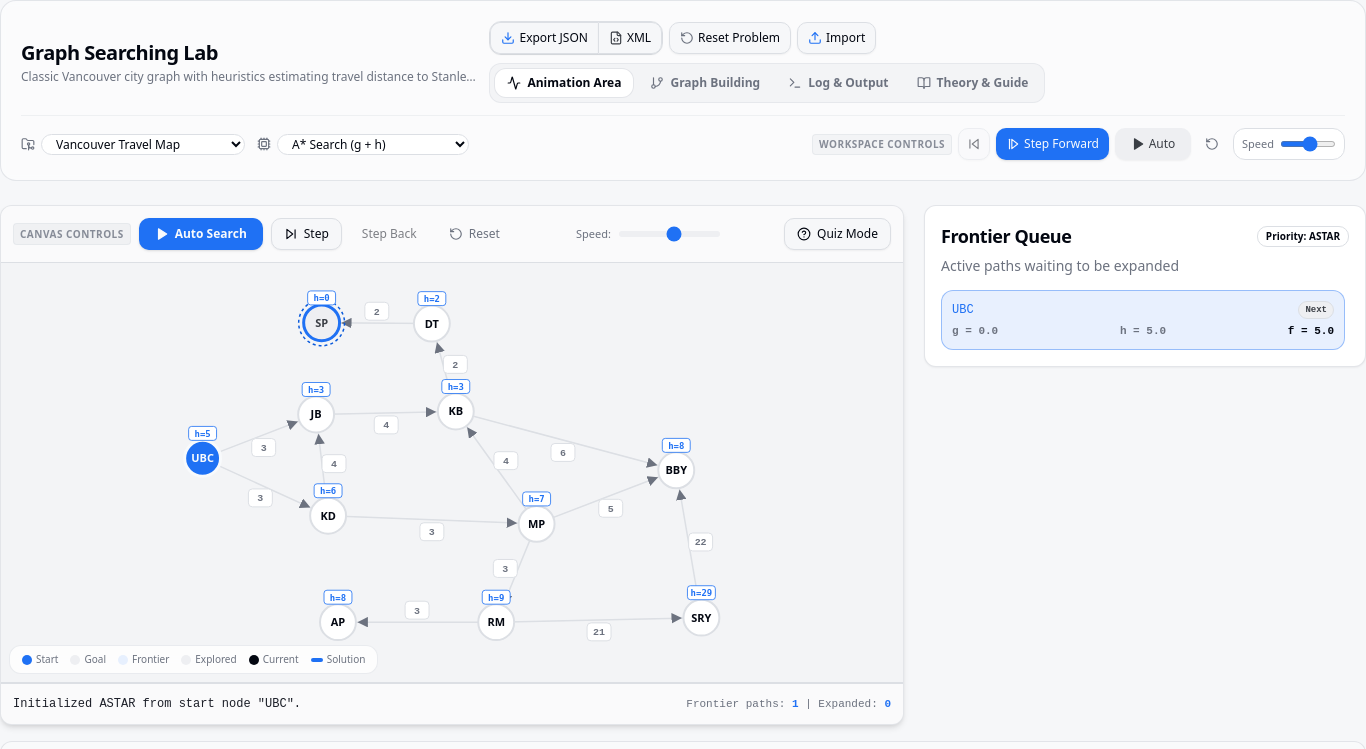
Test: AI Playground Consistent Workspace & Drag-and-Drop Graph Builder › 6. SearchTool seamlessly switches between Animation, Graph Building, Theory, and Log panes without Coding Area
Expected: the heading "Graph Searching Lab" is shown, 21,39 -> 218,66
Expected: the heading "Frontier Queue" is shown, 941,222 -> 1071,250
# Switch to Graph Building Area
Click the button "Graph Building" at (705, 83), box 638,69 -> 772,97
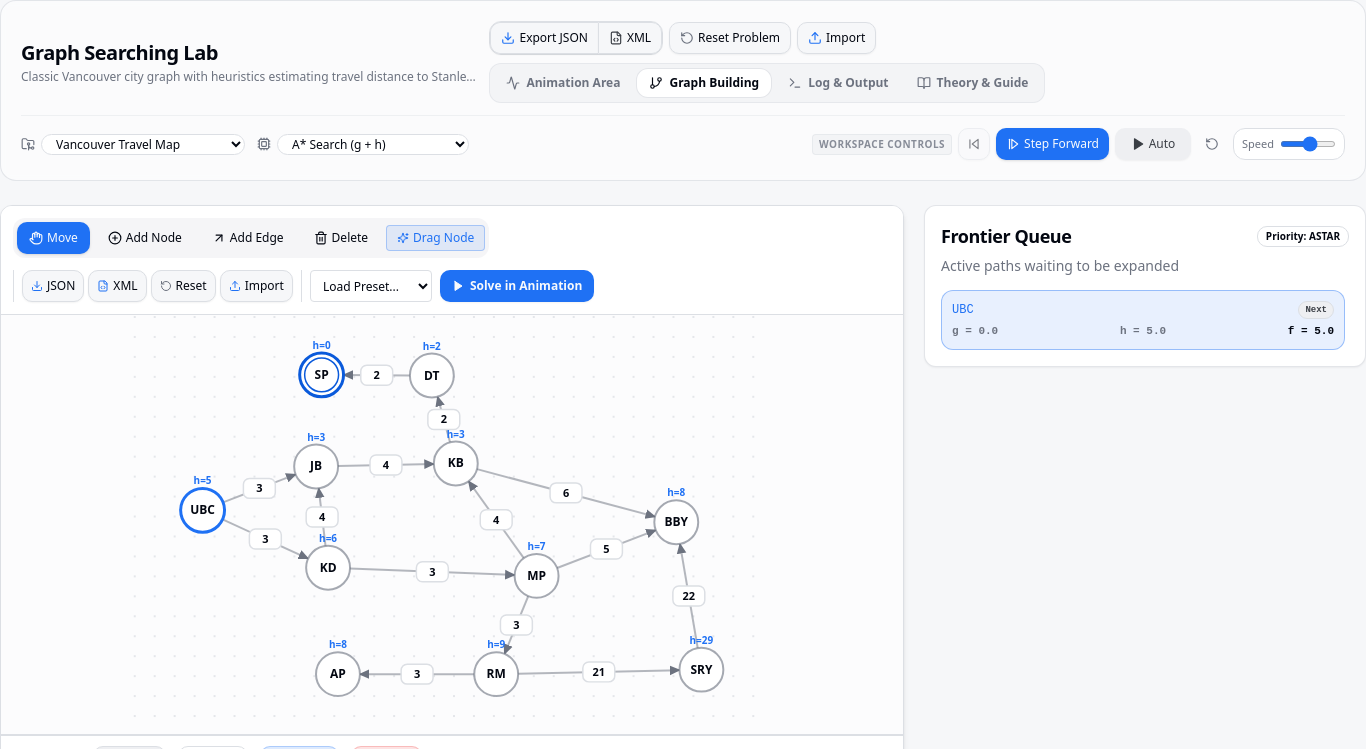
Now the button "Solve in Animation" is shown
# Switch back to Animation Area via Solve in Animation
Click the button "Solve in Animation" at (517, 286), box 440,270 -> 594,302
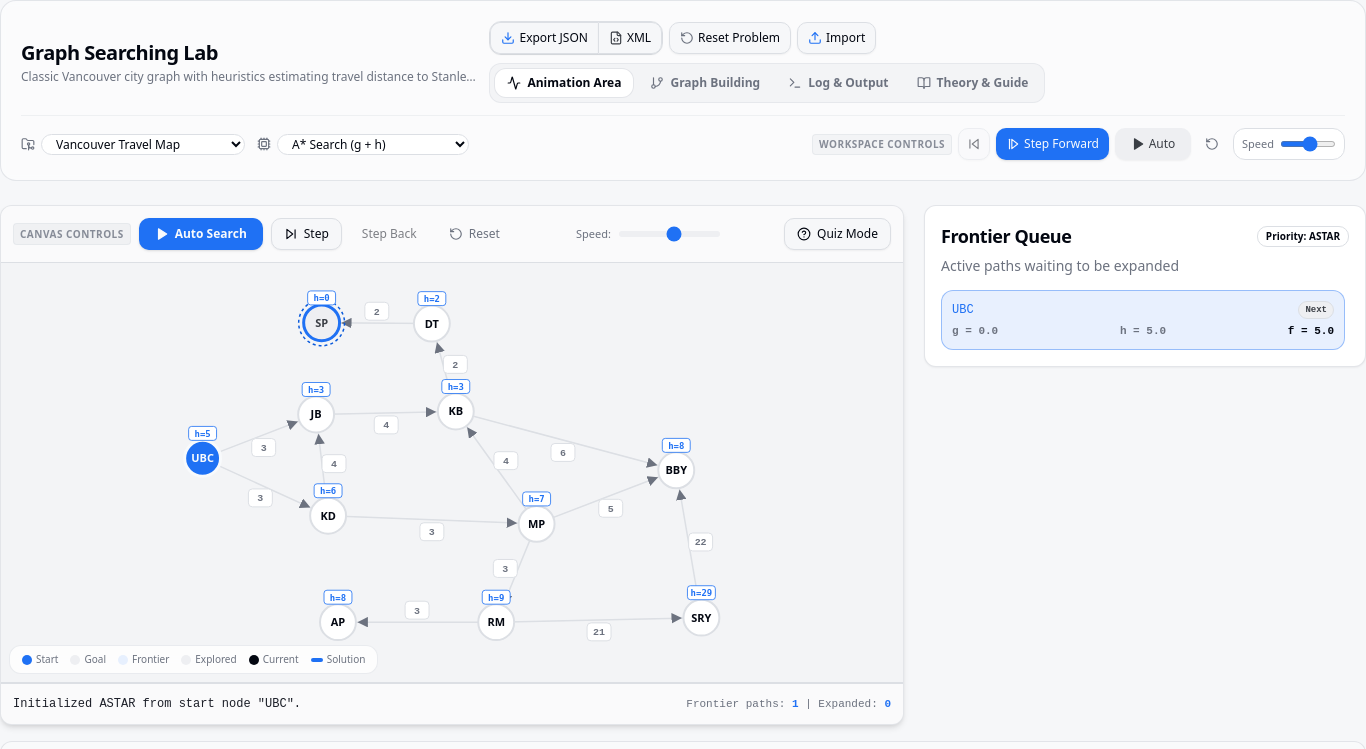
Expected: the heading "Frontier Queue" is shown, 941,222 -> 1071,250
# Switch to Log & Output
Click the button "Log & Output" at (838, 83), box 776,69 -> 901,97
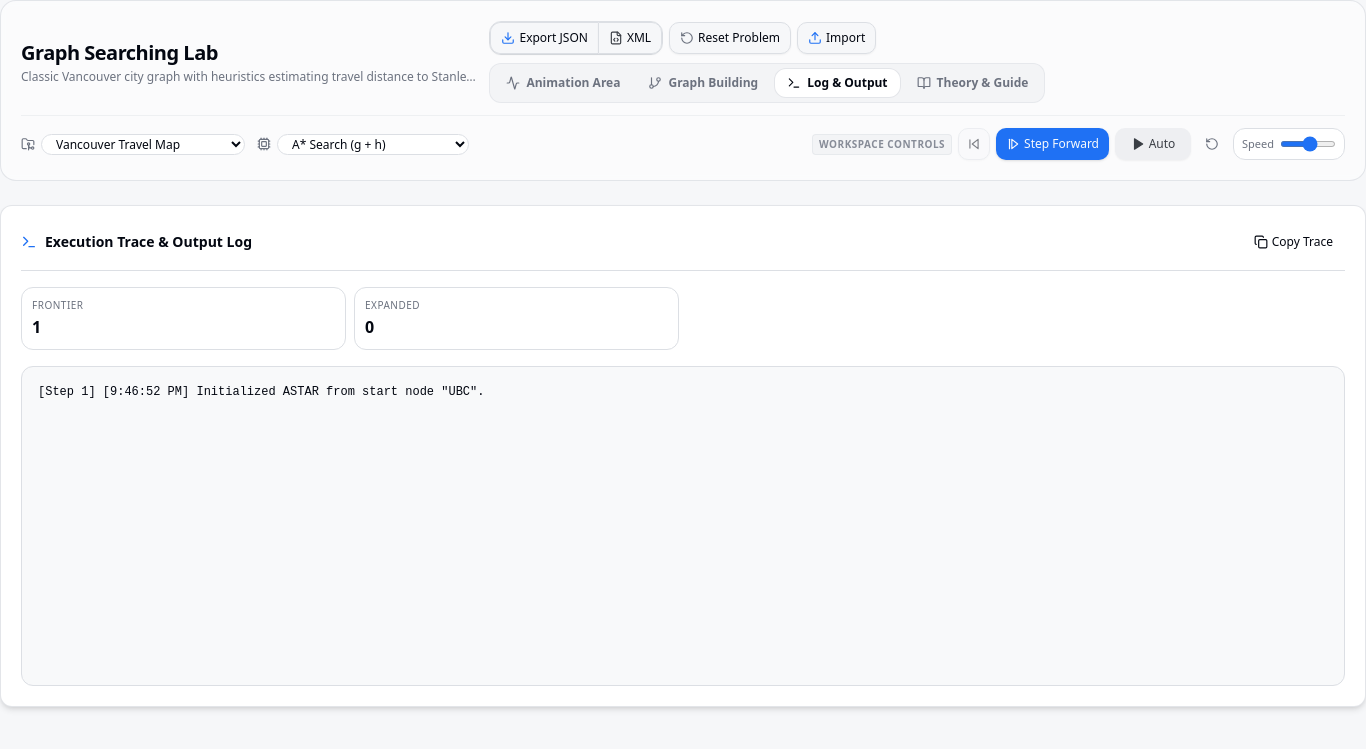
Now the heading "Execution Trace & Output Log" is shown, box 45,232 -> 252,252
# Switch to Theory & Guide
Click the button "Theory & Guide" at (972, 83), box 905,69 -> 1040,97
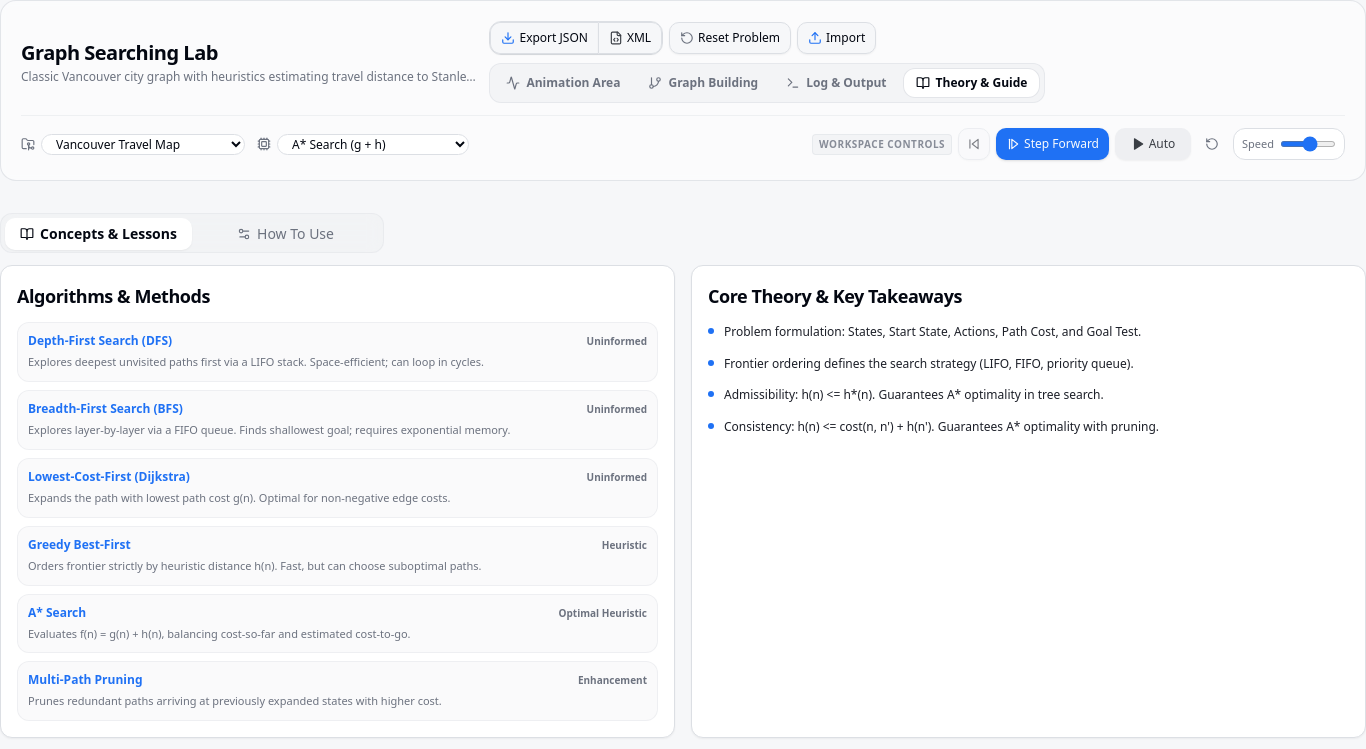
Now the tab "Concepts & Lessons" is shown, box 5,218 -> 192,250
